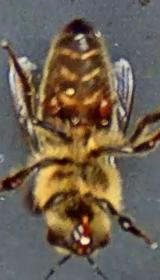varroa_mite: (86, 86, 122, 124), (37, 81, 70, 120)
